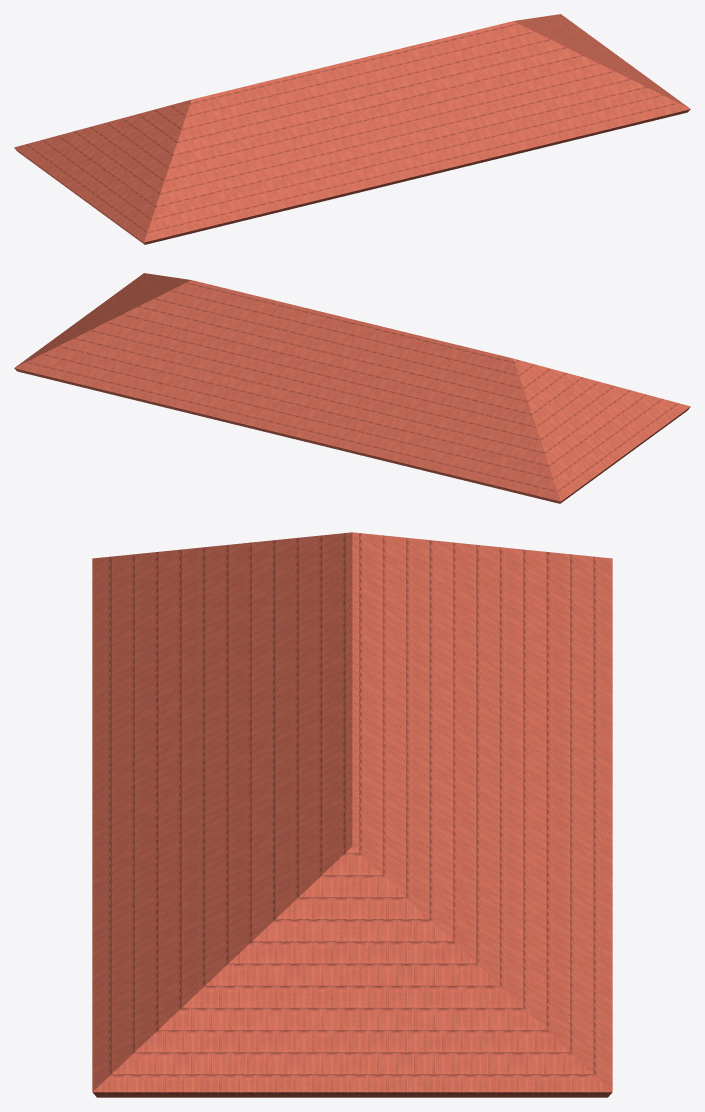
File: Joglo_part_364.fbx
The picture shows the model from 3 angles, top to bottom: view 1: azimuth 30°, elevation 25°; view 2: azimuth 150°, elevation 25°; view 3: azimuth 270°, elevation 25°; orthographic projection. The views are drawn at different scales.
Visible parts, largest first — view 1: Mesh412_Roof_Tiles___French_Red_0.001; view 2: Mesh412_Roof_Tiles___French_Red_0.001; view 3: Mesh412_Roof_Tiles___French_Red_0.001.
Part boxes in pixels (left/top/right/bottom): Mesh412_Roof_Tiles___French_Red_0.001: left=14, top=14, right=690, bottom=244; Mesh412_Roof_Tiles___French_Red_0.001: left=14, top=273, right=690, bottom=503; Mesh412_Roof_Tiles___French_Red_0.001: left=92, top=532, right=612, bottom=1097.
Bounding box in the file's own units: 535 × 67.05 × 220.
